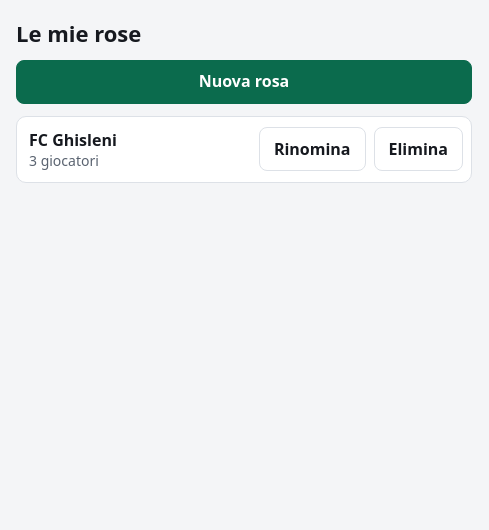
Test: the back button returns to the list
Click the text "FC Ghisleni" at (73, 140), box [29,128,117,151]
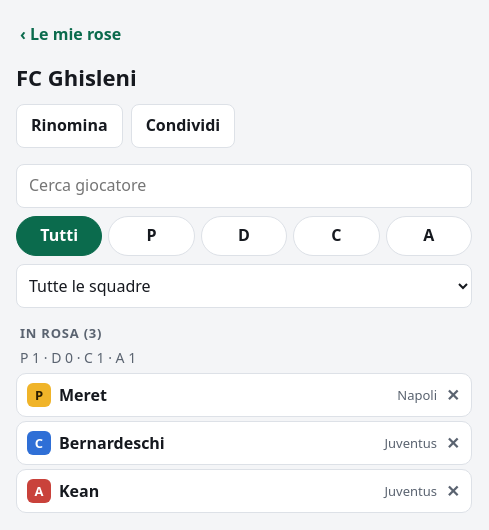
Click the button "‹ Le mie rose" at (71, 34), box [16,12,125,56]
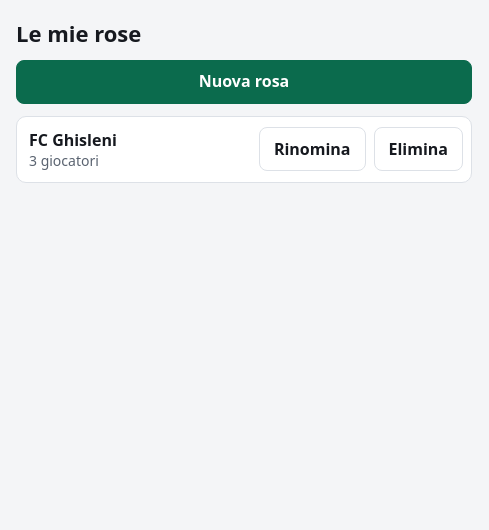
Expected: the field labelled "Cerca giocatore" is not shown
Now the heading "Le mie rose" is shown, box [16,18,141,48]
